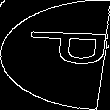P_E: (5, 35, 105, 75)
